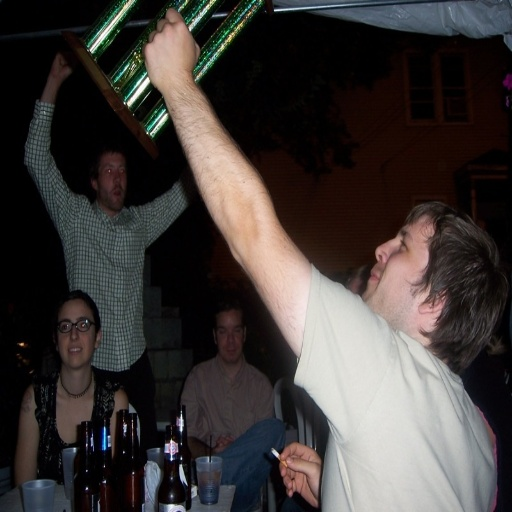hand: (140, 5, 202, 93), (273, 430, 327, 510), (51, 52, 73, 82), (215, 436, 232, 448)
